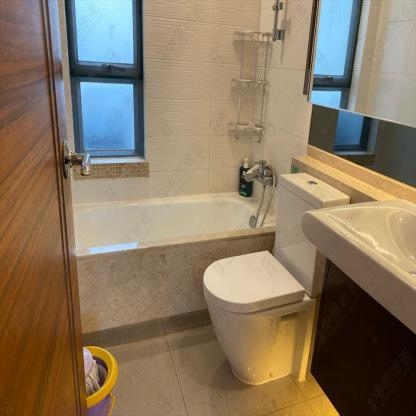Bathtub: (73, 190, 278, 334)
Toilet: (203, 169, 352, 387)
Toilet Sink: (299, 196, 414, 335)
